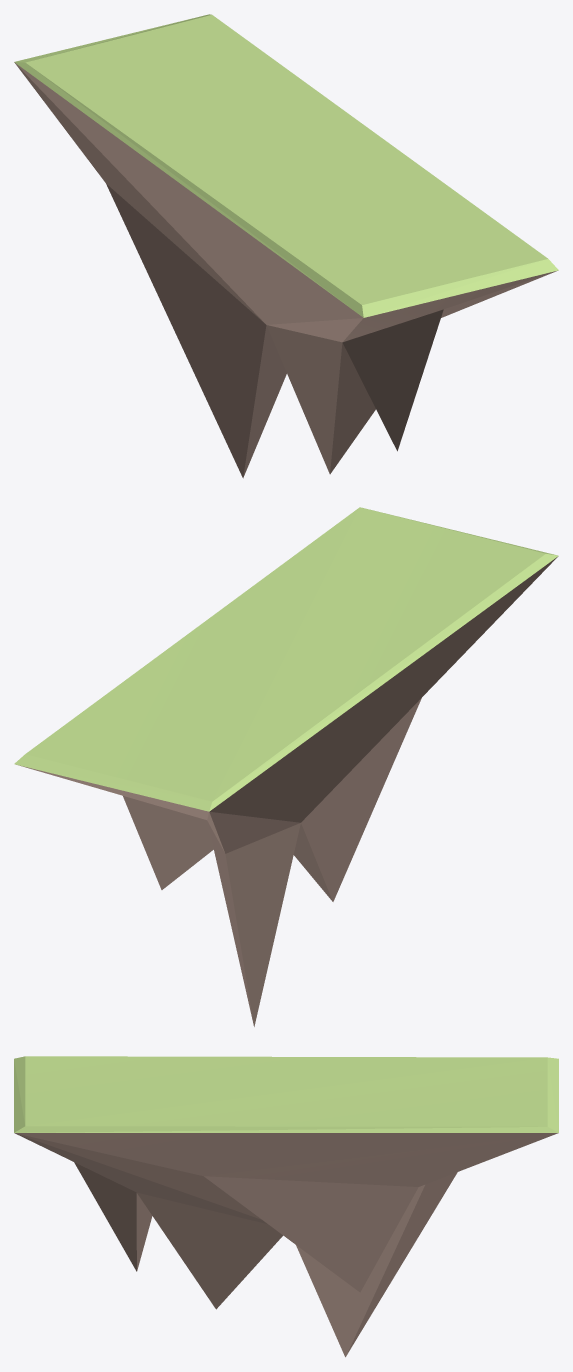
3 renders of one model, top to bottom at view 1: azimuth 30°, elevation 25°; view 2: azimuth 150°, elevation 25°; view 3: azimuth 270°, elevation 25°, orthographic. The views are drawn at different scales.
Visible parts, largest first — view 1: Land; view 2: Land; view 3: Land.
Boxes of the visible parts, bbox=[...] form: Land: bbox=[14, 14, 558, 478]; Land: bbox=[14, 507, 558, 1026]; Land: bbox=[14, 1056, 558, 1357].
Bounding box in the file's own units: 109 × 185 × 340.
